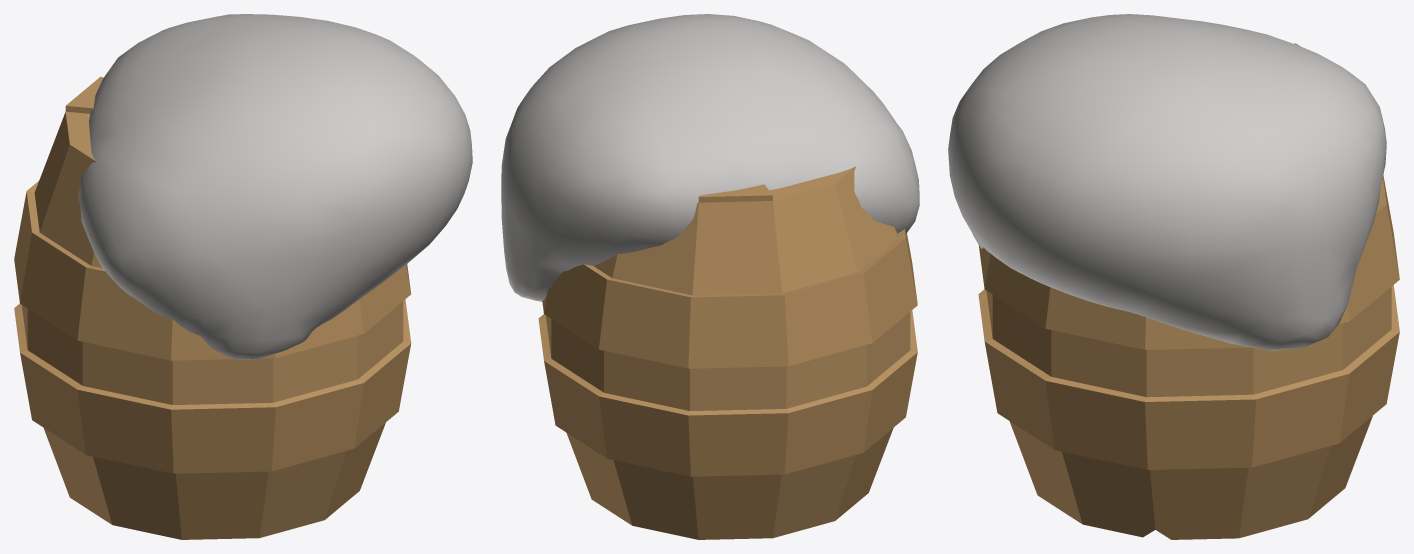
The model's file is Barrel_W_Snow.fbx.
3 views of the same model, side by side, from view 1: azimuth 30°, elevation 25°; view 2: azimuth 150°, elevation 25°; view 3: azimuth 270°, elevation 25° (orthographic). The views are drawn at different scales.
Parts seen in each view (by area): view 1: Barrel_W_Snow; view 2: Barrel_W_Snow; view 3: Barrel_W_Snow.
Part boxes in pixels (x1,y1,x2,y2): Barrel_W_Snow: (14,14,472,539); Barrel_W_Snow: (501,14,919,539); Barrel_W_Snow: (948,14,1399,539).
Size of the model in its own units: 91.65 by 96.76 by 86.48.
